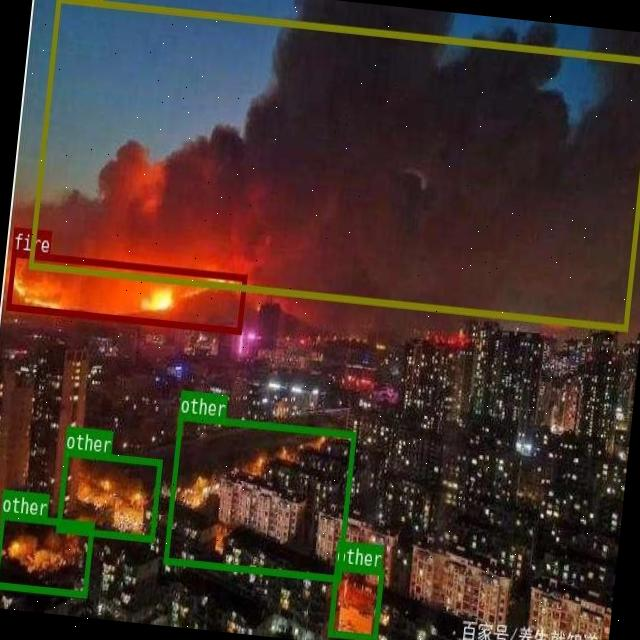fire: (6, 250, 246, 332)
smoke: (28, 0, 640, 329)
